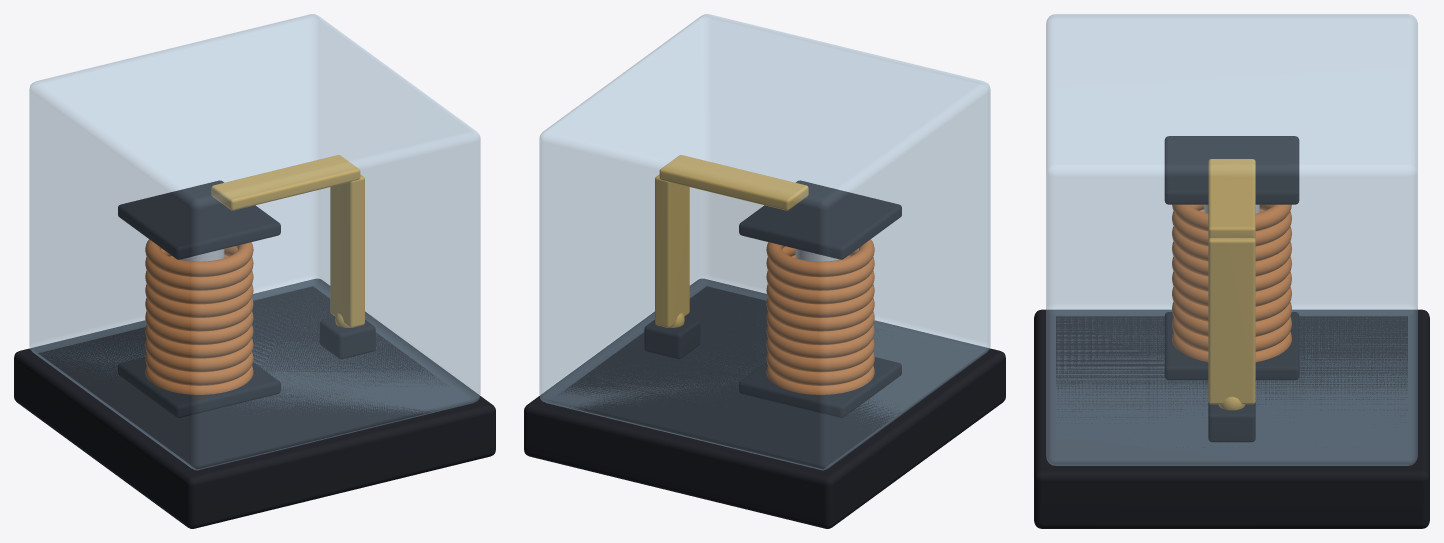
Rendered from relay.glb.
The picture shows the model from 3 angles, left to right: view 1: azimuth 30°, elevation 25°; view 2: azimuth 150°, elevation 25°; view 3: azimuth 270°, elevation 25°; orthographic projection. The views are drawn at different scales.
Visible parts, largest first — view 1: relay; view 2: relay; view 3: relay.
Part boxes in pixels (bbox=[...]): relay: bbox=[14, 14, 495, 528]; relay: bbox=[524, 14, 1005, 528]; relay: bbox=[1034, 14, 1429, 528].
Size of the model in its own units: 1 by 1 by 1.
